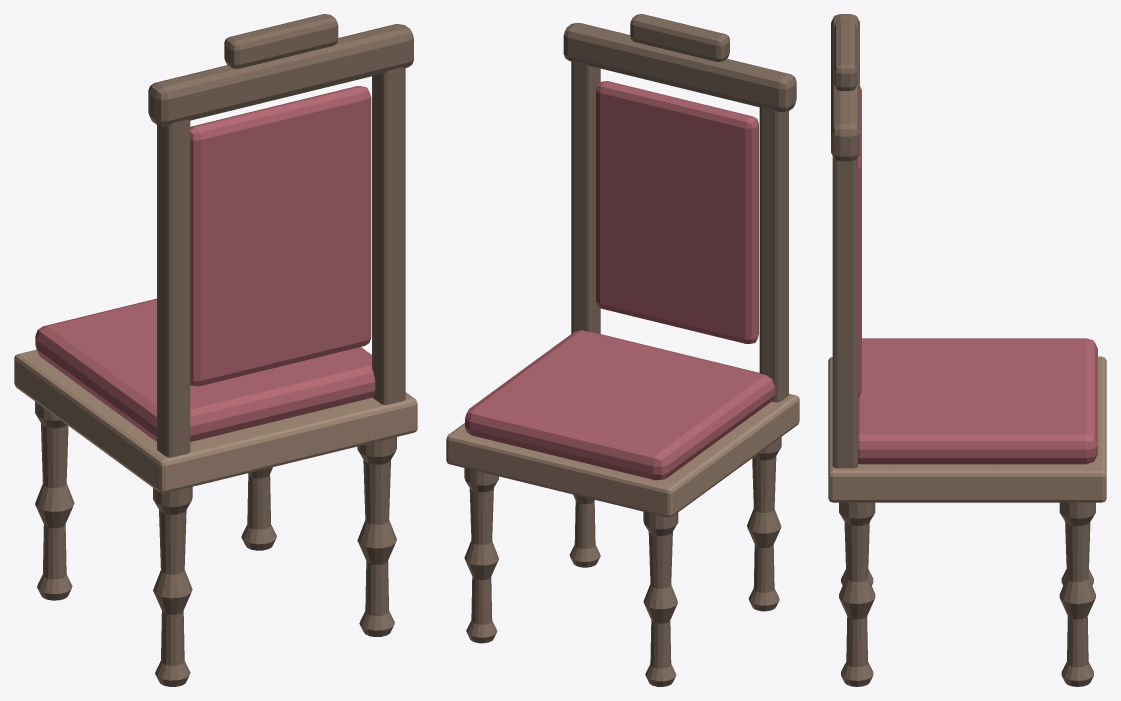
The model's file is Chair.glb.
3 views of the same model, side by side, from view 1: azimuth 30°, elevation 25°; view 2: azimuth 150°, elevation 25°; view 3: azimuth 270°, elevation 25° (orthographic). The views are drawn at different scales.
Parts seen in each view (by area): view 1: Chair_Cloth, Chair_DarkWood, Chair_Wood; view 2: Chair_Cloth, Chair_DarkWood, Chair_Wood; view 3: Chair_Cloth, Chair_DarkWood, Chair_Wood.
Part boxes in pixels (bbox=[...]): Chair_Cloth: bbox=[35, 86, 375, 441]; Chair_DarkWood: bbox=[35, 14, 413, 686]; Chair_Wood: bbox=[14, 349, 417, 493]; Chair_Cloth: bbox=[465, 81, 774, 480]; Chair_DarkWood: bbox=[464, 14, 796, 686]; Chair_Wood: bbox=[446, 393, 799, 517]; Chair_Cloth: bbox=[858, 86, 1097, 464]; Chair_DarkWood: bbox=[831, 14, 1095, 686]; Chair_Wood: bbox=[828, 356, 1106, 502].
Bounding box in the file's own units: 2.4 × 5.62 × 2.4.
